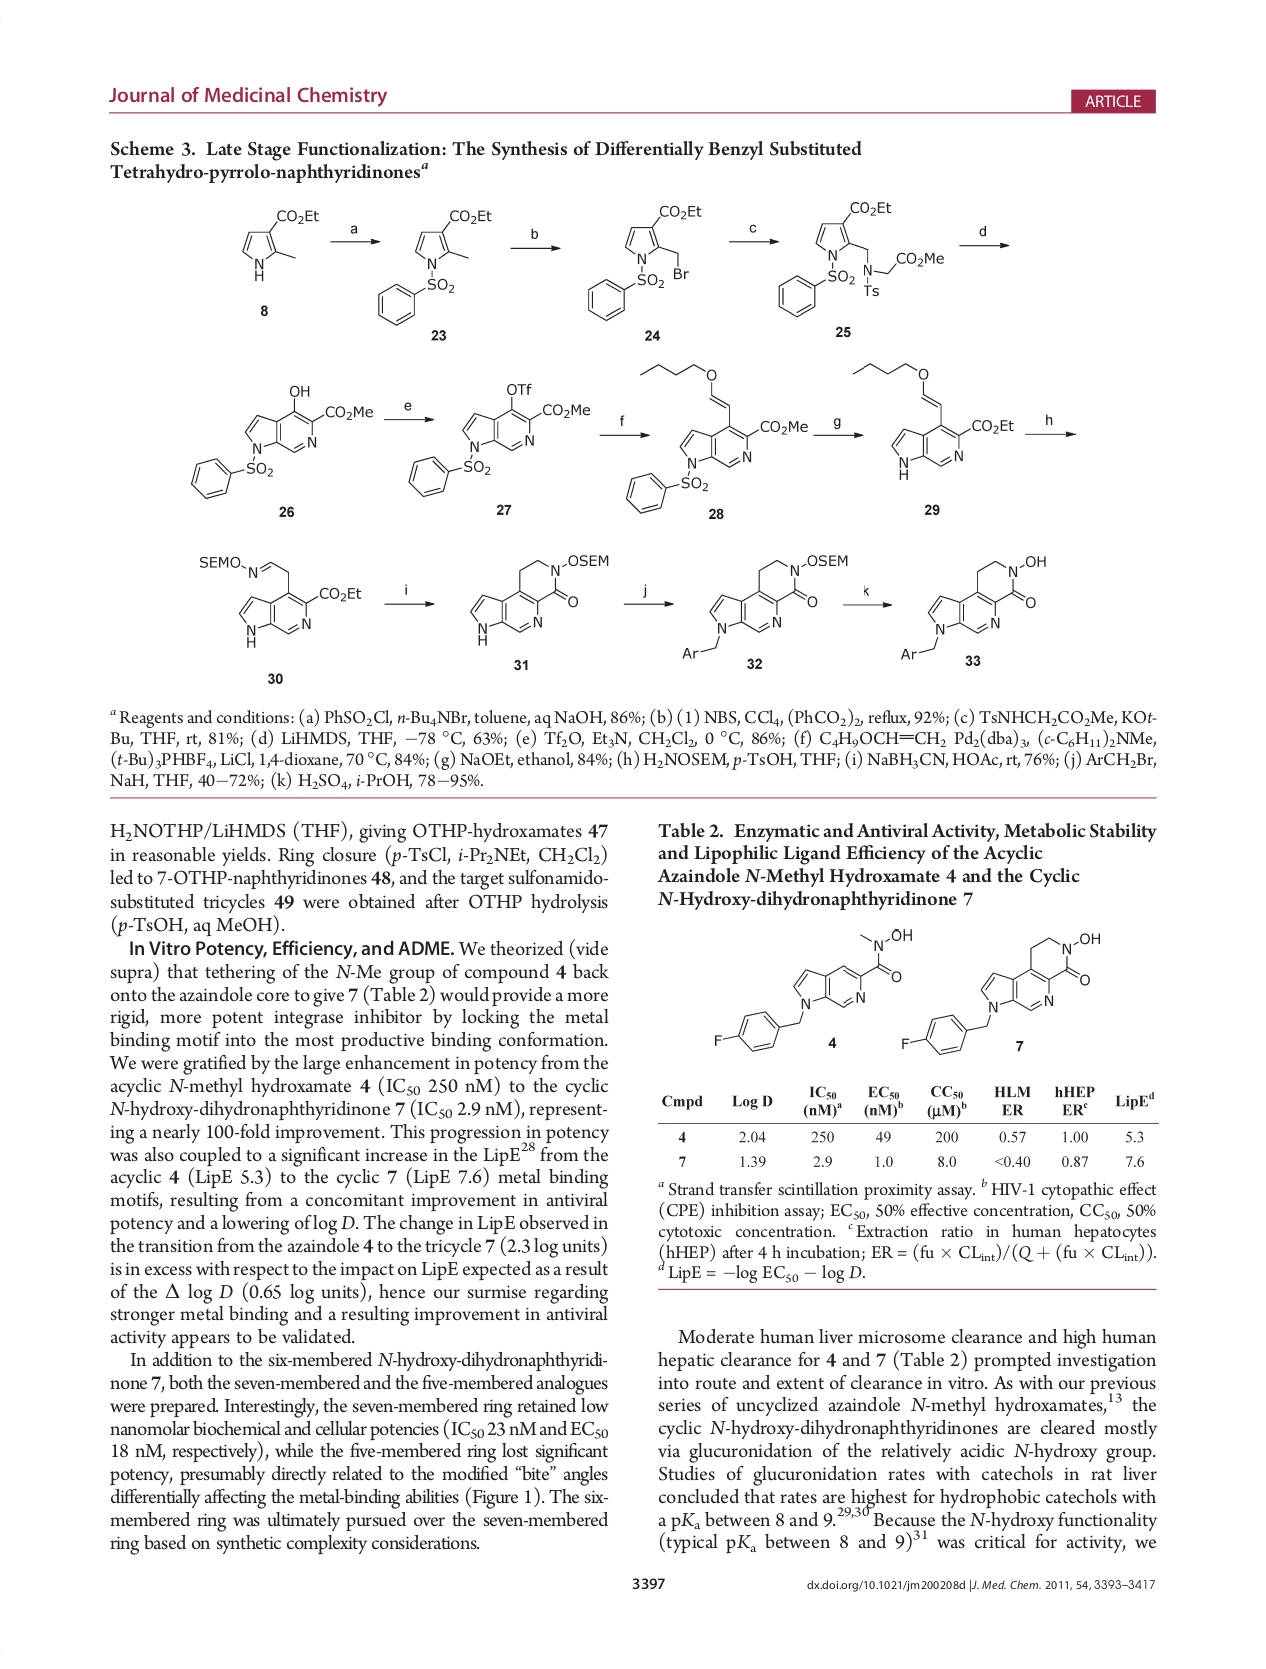exist_molecular: (621, 360, 809, 516), (710, 926, 915, 1055), (898, 930, 1102, 1057), (189, 380, 376, 501), (408, 380, 592, 499), (773, 197, 948, 321), (848, 356, 1017, 484), (680, 551, 852, 660), (194, 551, 363, 650), (899, 552, 1049, 660), (582, 197, 707, 324), (376, 207, 495, 328), (465, 552, 613, 648), (235, 203, 322, 282)
